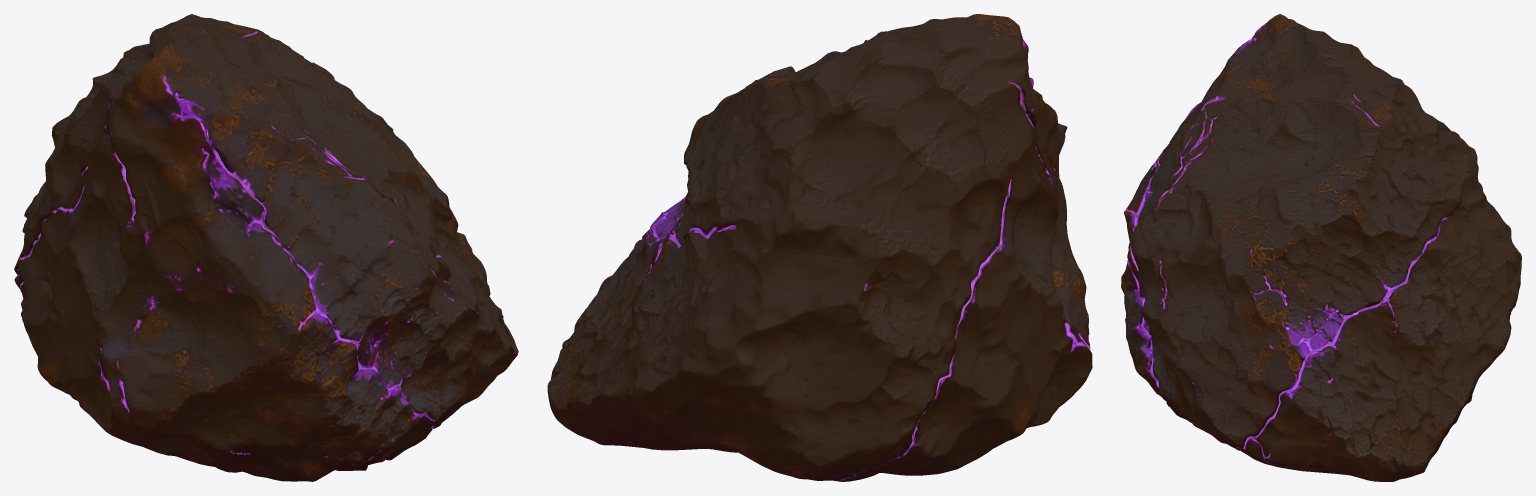
File: hero.glb
3 views of the same model, side by side, from view 1: azimuth 30°, elevation 25°; view 2: azimuth 150°, elevation 25°; view 3: azimuth 270°, elevation 25° (orthographic). The views are drawn at different scales.
Parts seen in each view (by area): view 1: node_a7b85540-55f3-4247-a4ff-cff303ea4854; view 2: node_a7b85540-55f3-4247-a4ff-cff303ea4854; view 3: node_a7b85540-55f3-4247-a4ff-cff303ea4854.
Part boxes in pixels (box(x1,y1,x2,y2)): node_a7b85540-55f3-4247-a4ff-cff303ea4854: box(14, 14, 518, 481); node_a7b85540-55f3-4247-a4ff-cff303ea4854: box(547, 14, 1092, 481); node_a7b85540-55f3-4247-a4ff-cff303ea4854: box(1121, 14, 1521, 481).
Size of the model in its own units: 0.6042 by 0.5653 by 0.5935.
Materials: 1 (1 with a texture image).
